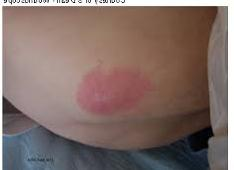Stage1: (71, 57, 159, 119)
